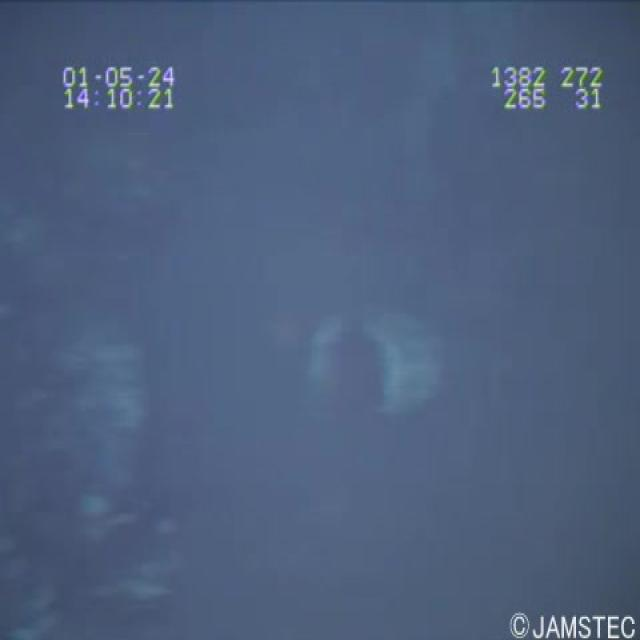plastic: (287, 288, 457, 432)
